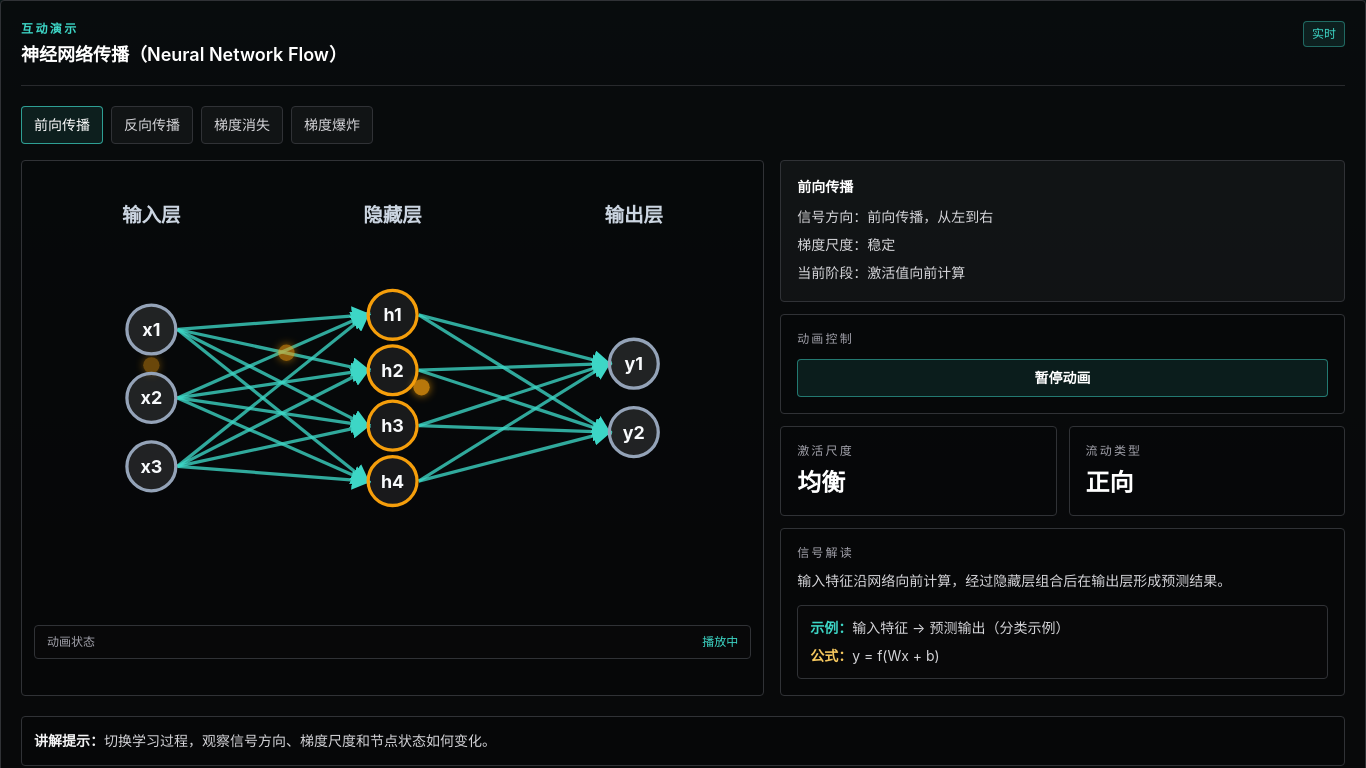
Test: NeuralNetworkFlowDemo › can pause and resume animation
This screenshot has width=1366, height=768.
Click the button with test id "nn-playback-control".
click(1063, 378)  # box [797,359,1328,397]
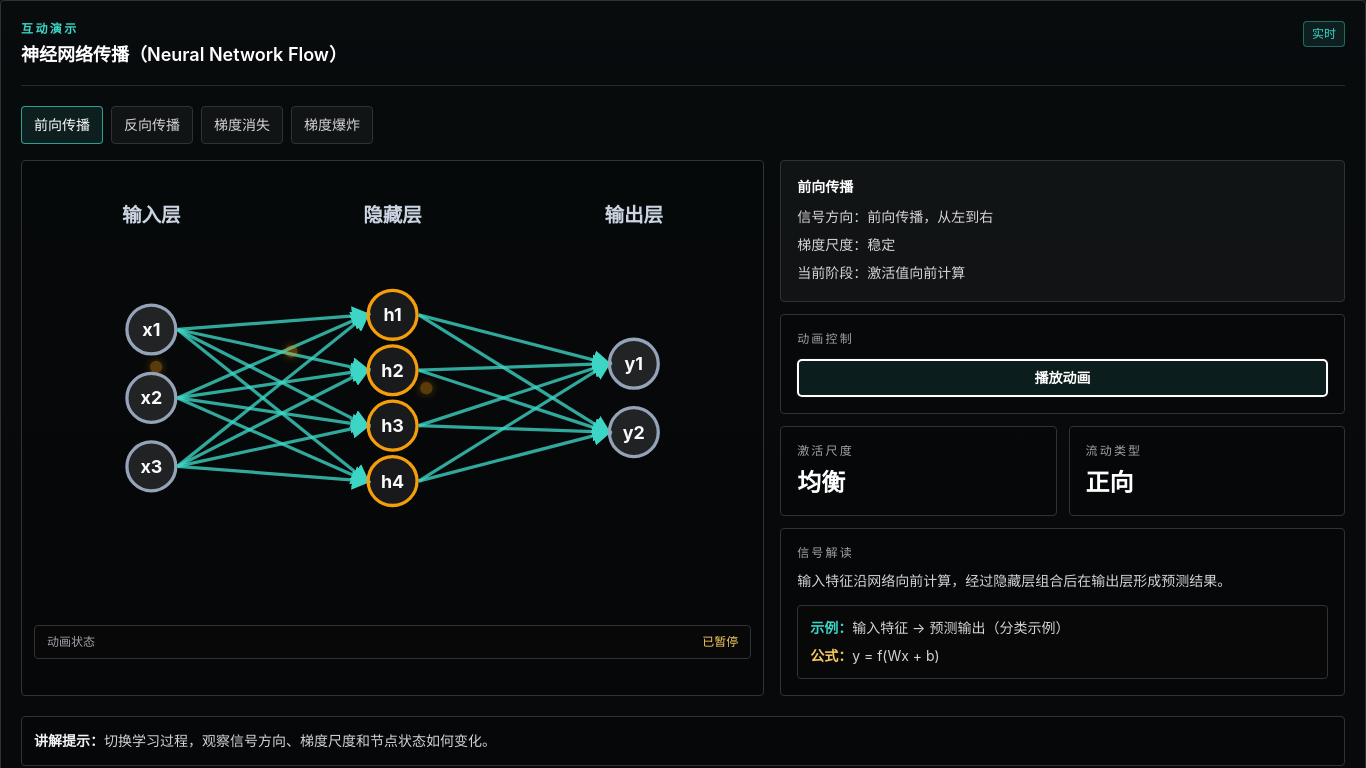
Check: the button "播放动画" is shown
Click the button with test id "nn-playback-control".
click(1063, 378)  # box [797,359,1328,397]
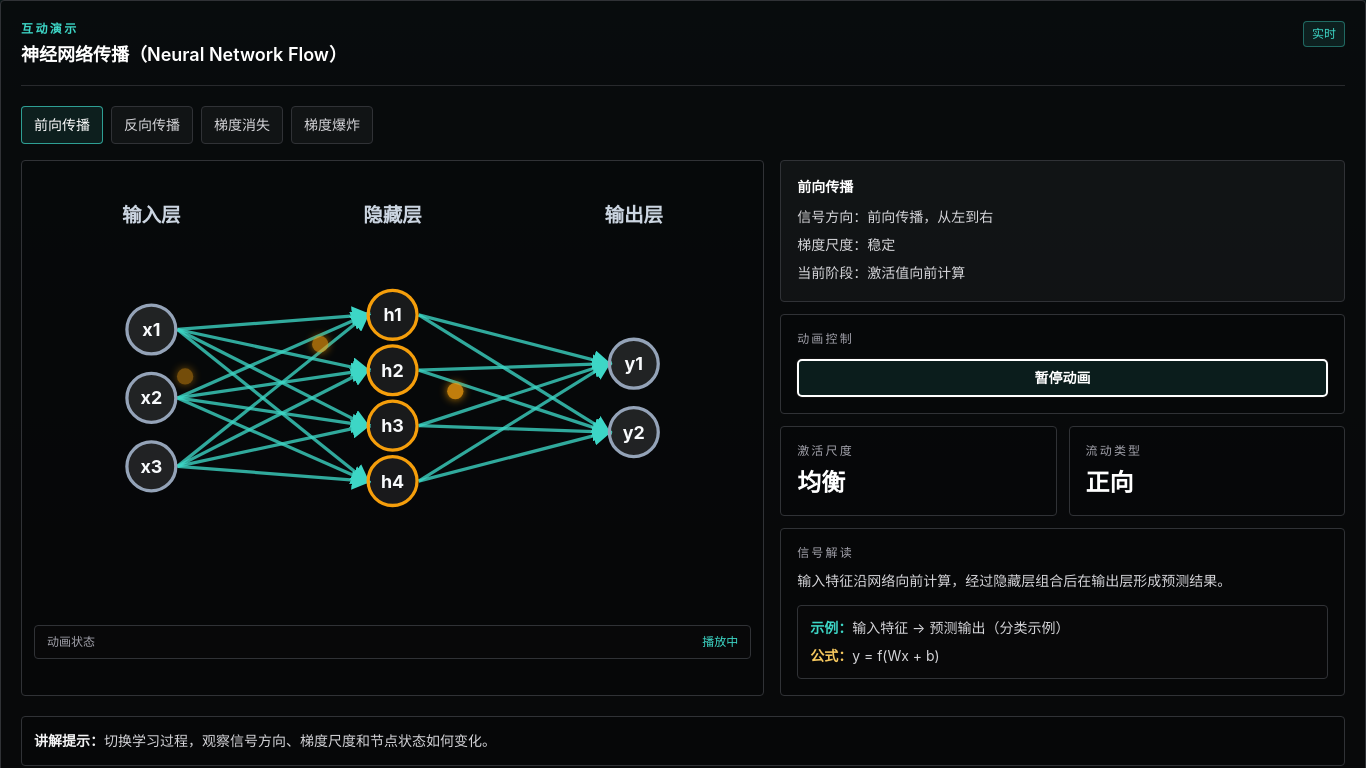
Check: the button "暂停动画" is shown, box [797,359,1328,397]
